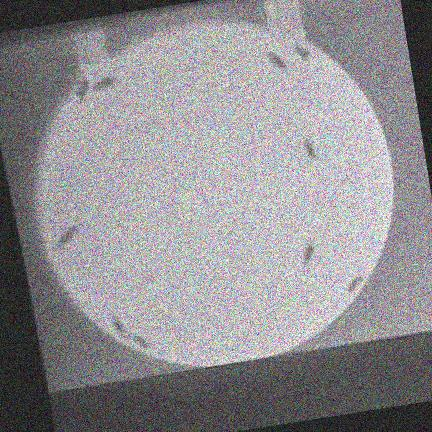fly: (55, 226, 76, 248), (301, 240, 314, 267), (74, 79, 88, 103), (91, 77, 115, 91), (268, 53, 286, 71), (347, 273, 363, 293), (111, 316, 125, 337), (129, 334, 148, 349), (302, 139, 316, 159), (294, 44, 309, 61)
